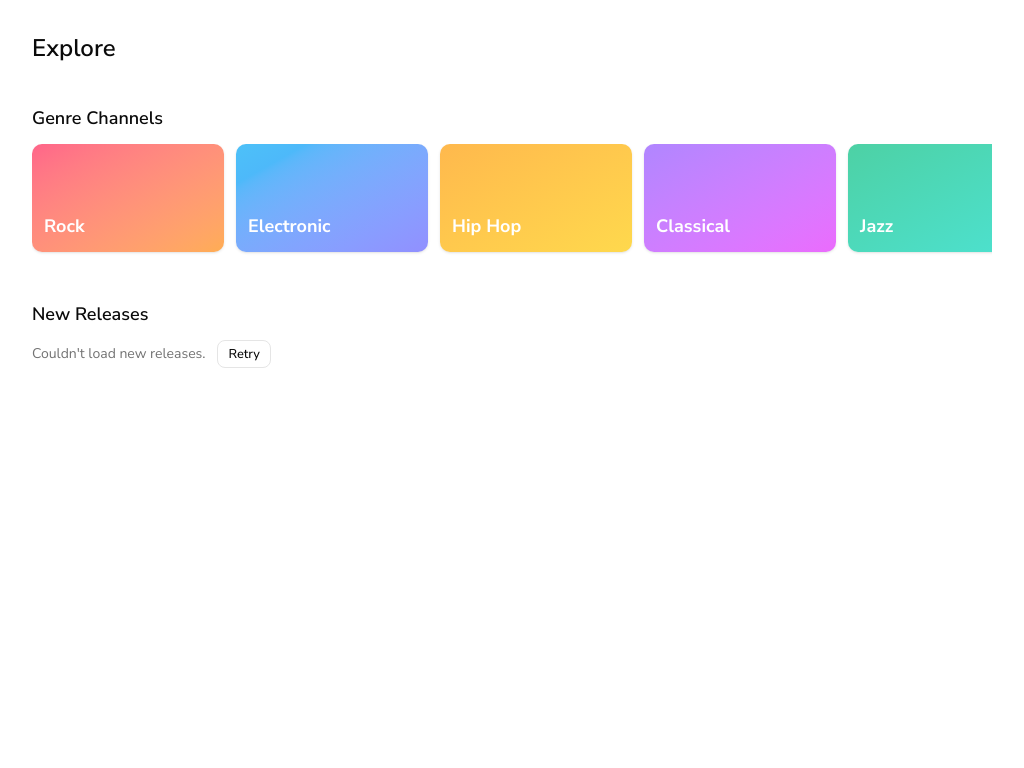
Scenario: ExplorePage › shows an error with a retry that refetches
Expected: the message shows "Couldn't load new releases.", [32,344,205,363]
Click the button "Retry" at (244, 354), box [217,340,271,368]
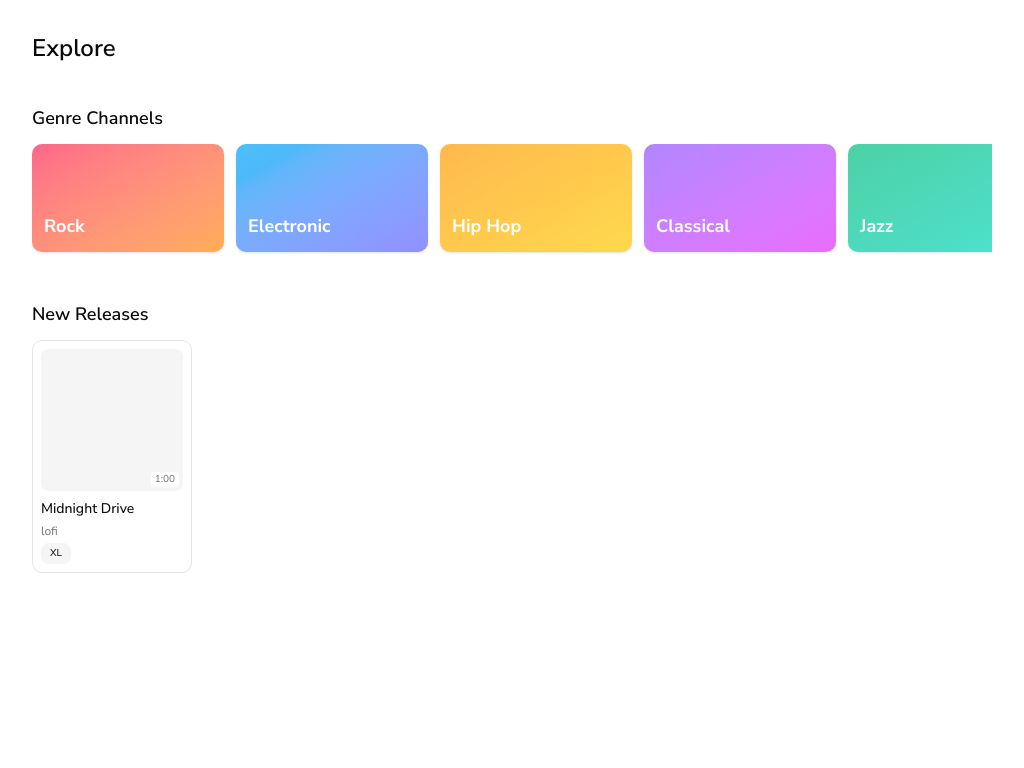
Expected: the number of links with test id "explore-clip-card" is 1, [32,340,192,573]
